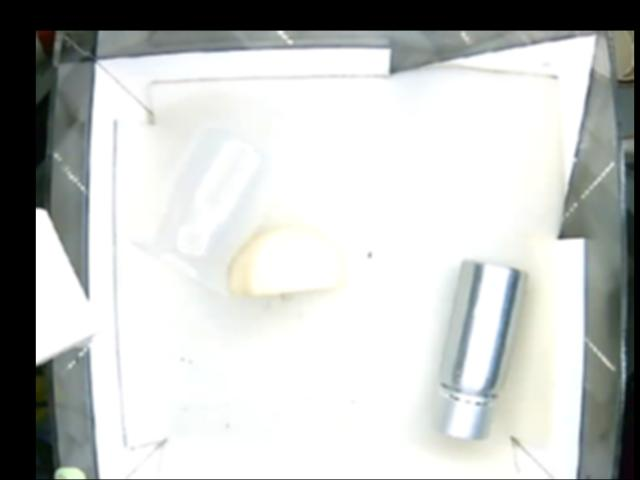Bottle: (134, 127, 271, 285), (437, 260, 528, 448)
Mooli: (225, 225, 347, 293)
